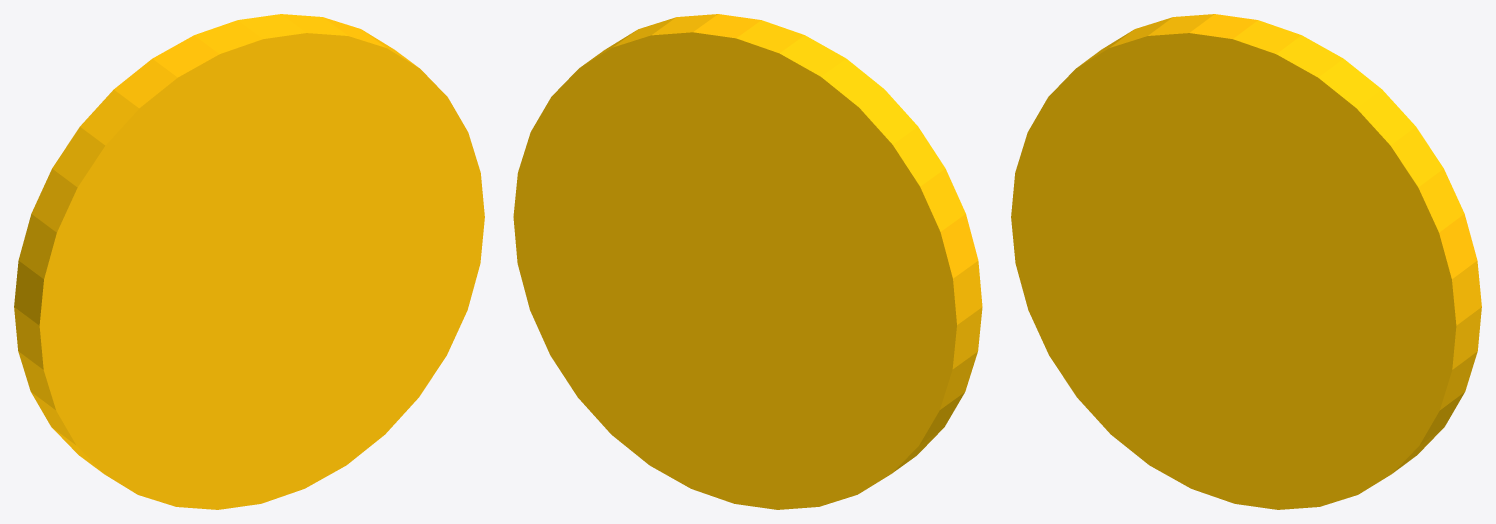
The model's file is Coin.glb.
The picture shows the model from 3 angles, left to right: view 1: azimuth 30°, elevation 25°; view 2: azimuth 150°, elevation 25°; view 3: azimuth 330°, elevation 25°; orthographic projection.
Visible parts, largest first — view 1: Cylinder; view 2: Cylinder; view 3: Cylinder.
Part boxes in pixels (x1,y1,x2,y2): Cylinder: (14,14,484,509); Cylinder: (513,14,982,509); Cylinder: (1011,14,1481,509).
Bounding box in the file's own units: 2 × 2 × 0.2128.
